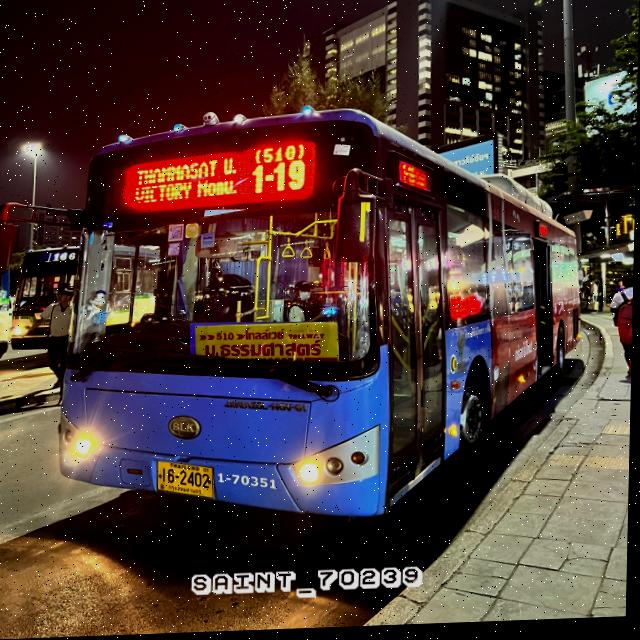BMTA-bus: (52, 89, 594, 540)
Bus Line Number: (245, 141, 315, 199)
Bus Side Number: (216, 469, 286, 499)
Destination Sign: (197, 324, 341, 369)
